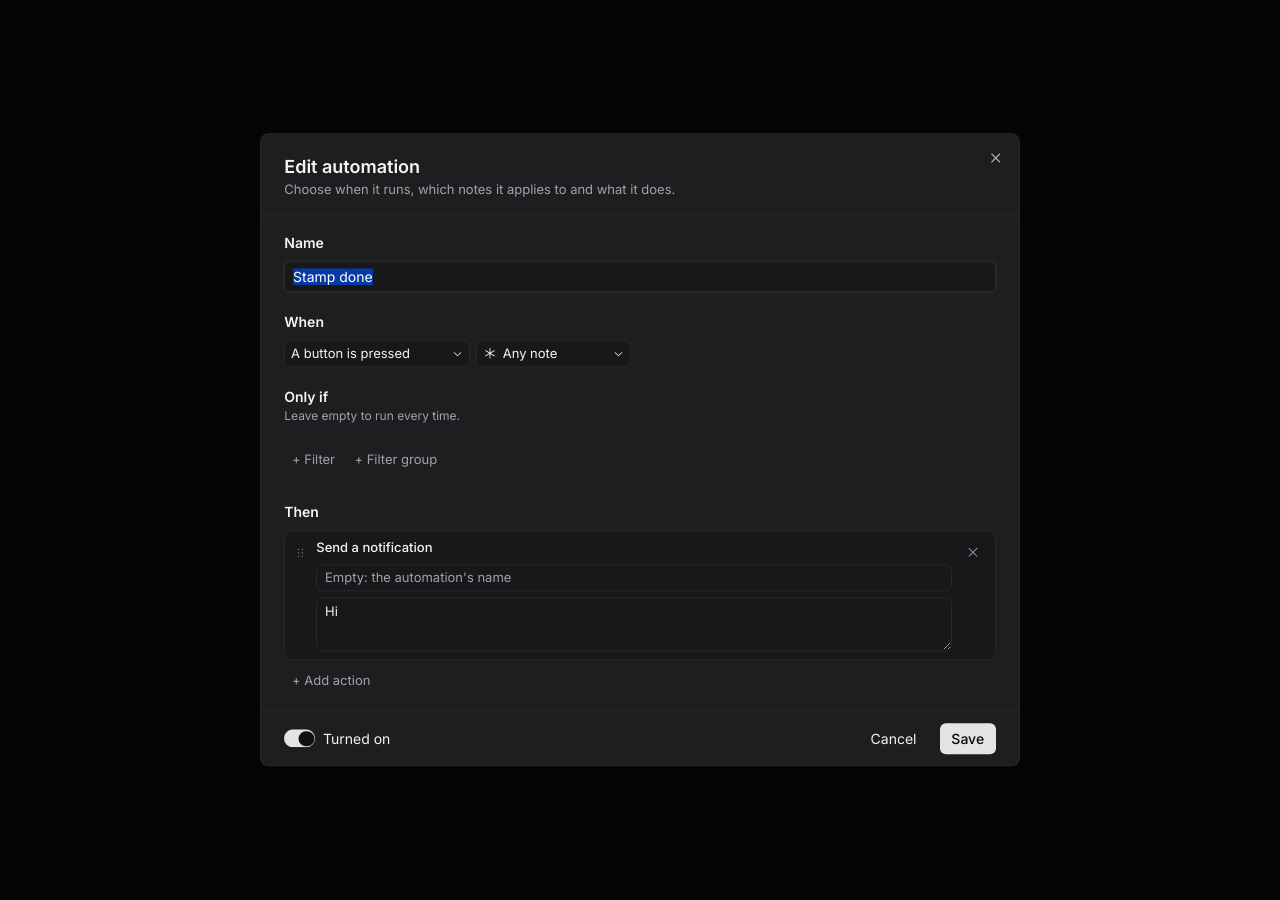
Test: RuleEditorDialog › a 409 reloads the rule; saving again sends the new revision
The image size is (1280, 900).
Later steps or results of the test are not shown.
Click the button "Save".
click(968, 739)  # box [940,723,996,754]
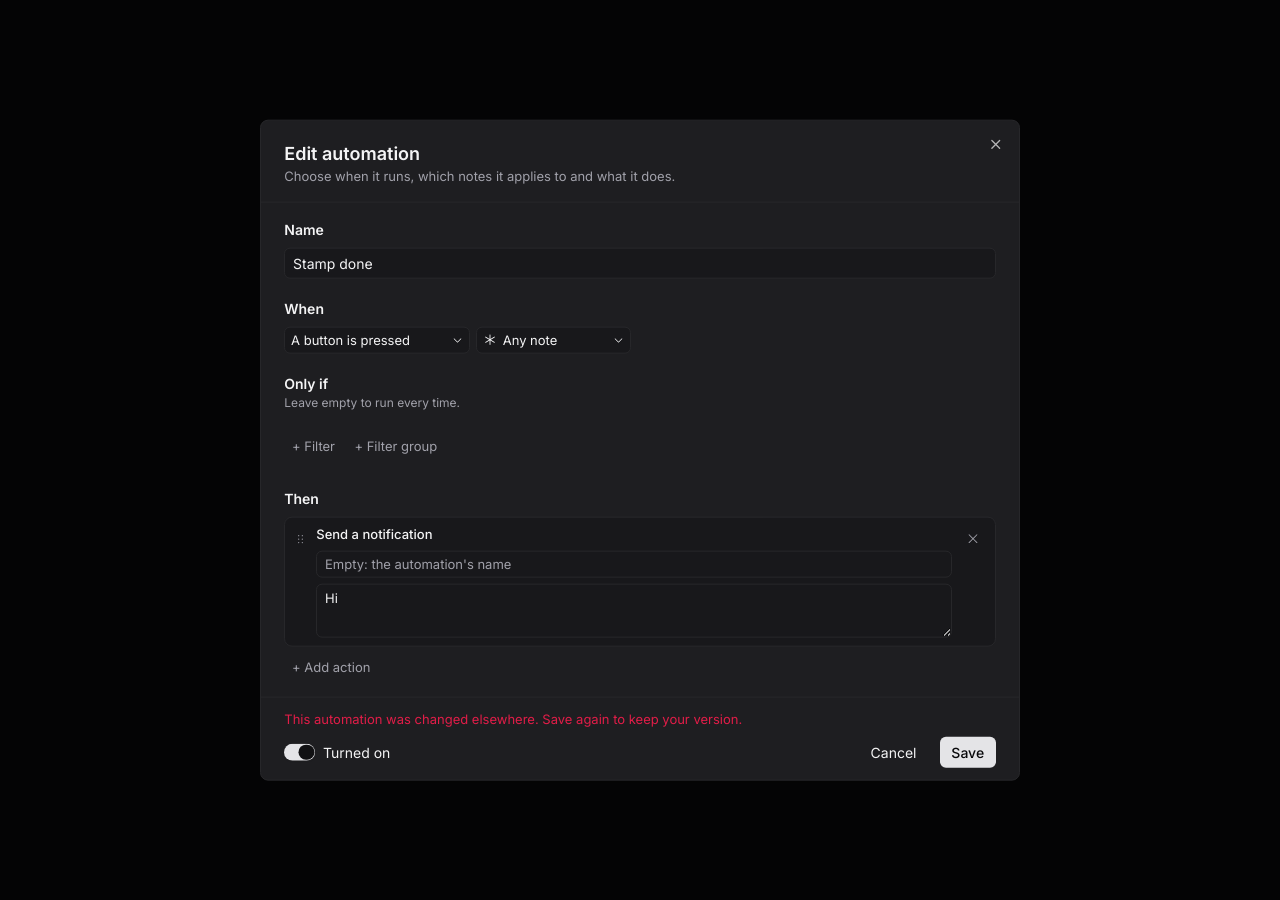
Expected: the message shows "This automation was changed elsewhere.", [284,710,742,726]
